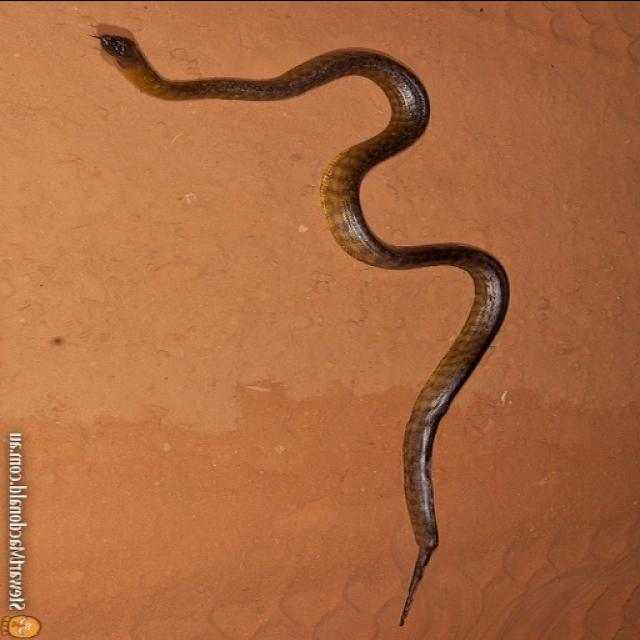snake: (70, 0, 520, 626)
